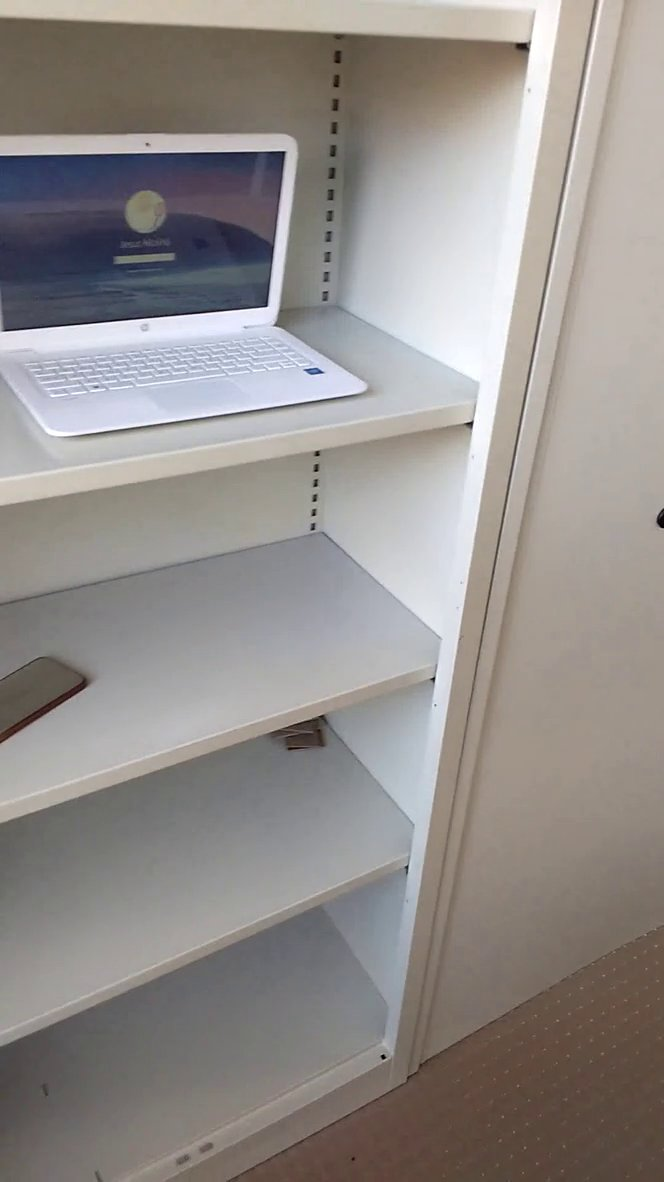laptop: (2, 90, 390, 458)
